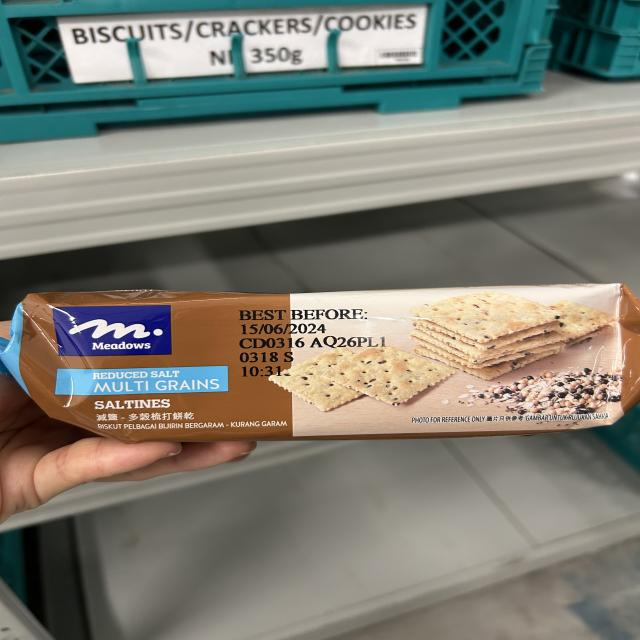object_name: (31, 296, 612, 424)
